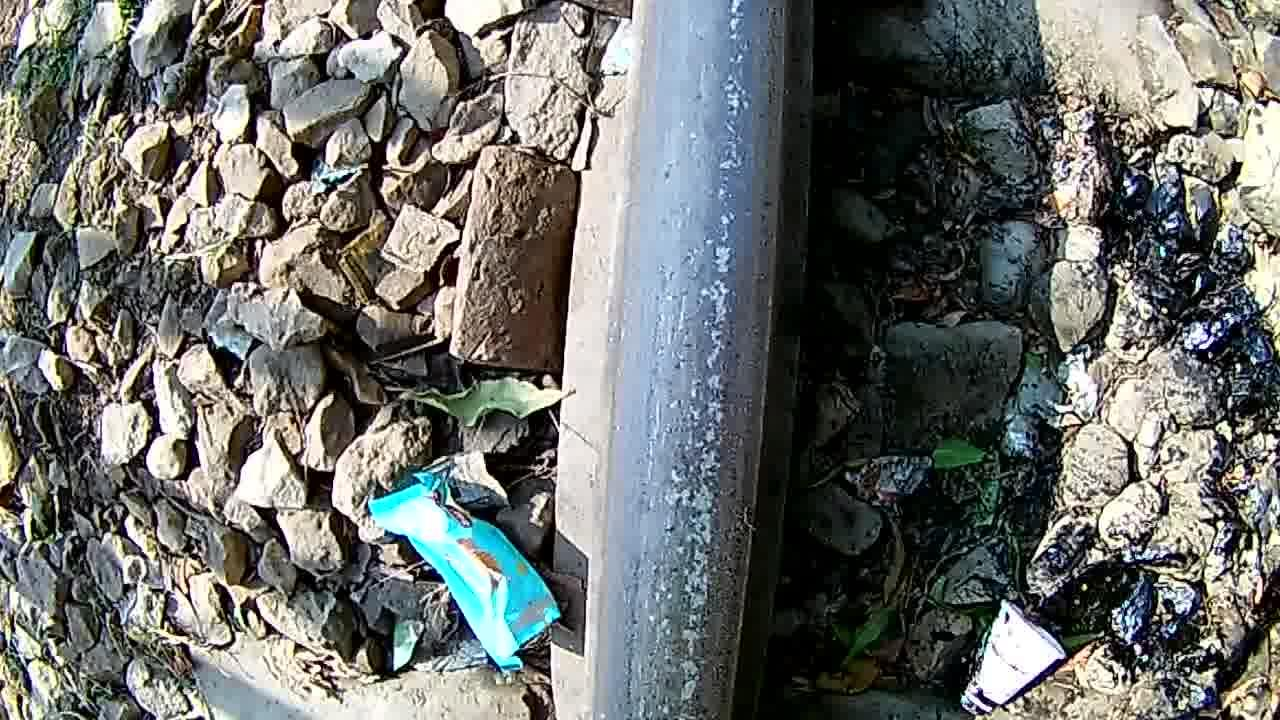clip_missing: (599, 0, 800, 720)
